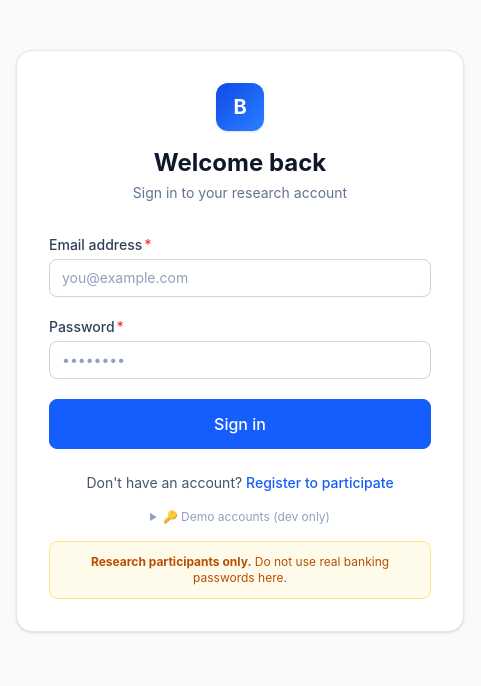
LoginPage — success › shows API error message on 401
This screenshot has width=481, height=686.
Type "a@b.com" into the field labelled "Email address*".
click(240, 278); type("a@b.com")  # box [49,259,431,297]
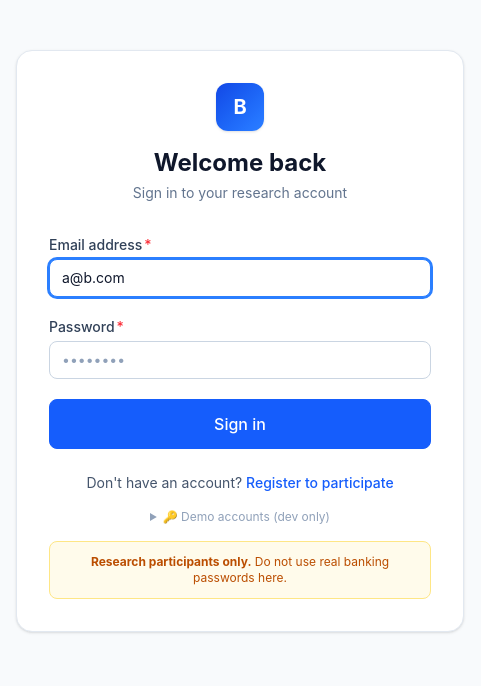
Type "WrongPass!" into the password field labelled "Password*".
click(240, 360); type("WrongPass!")  # box [49,341,431,379]
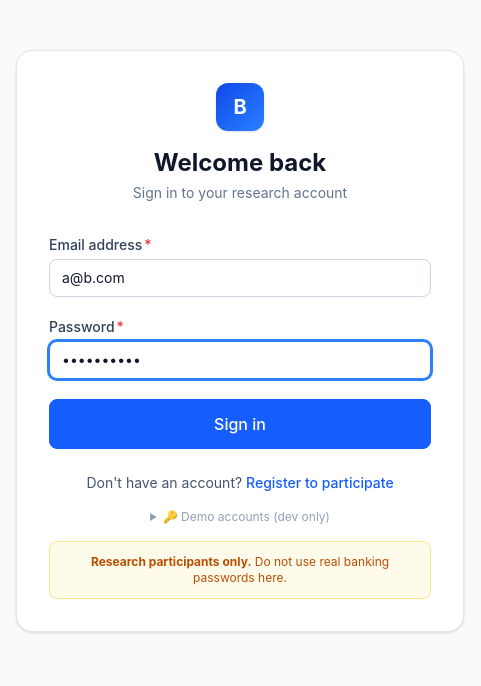
Click the button "Sign in".
click(240, 424)  # box [49,399,431,449]
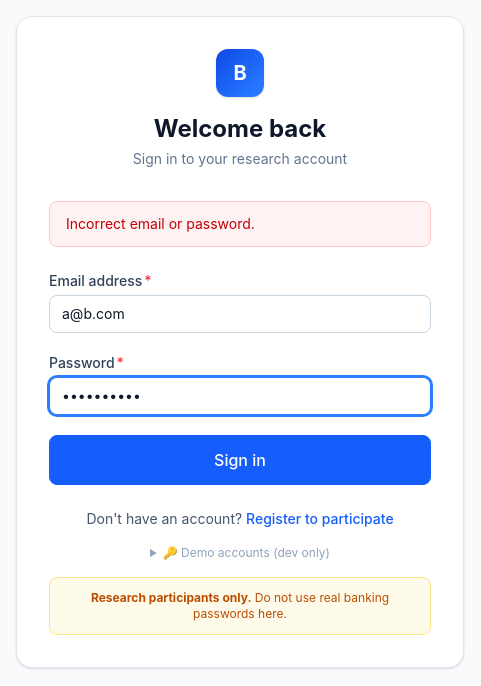
Now the text "Incorrect email or password." is shown, box [49,201,431,247]
